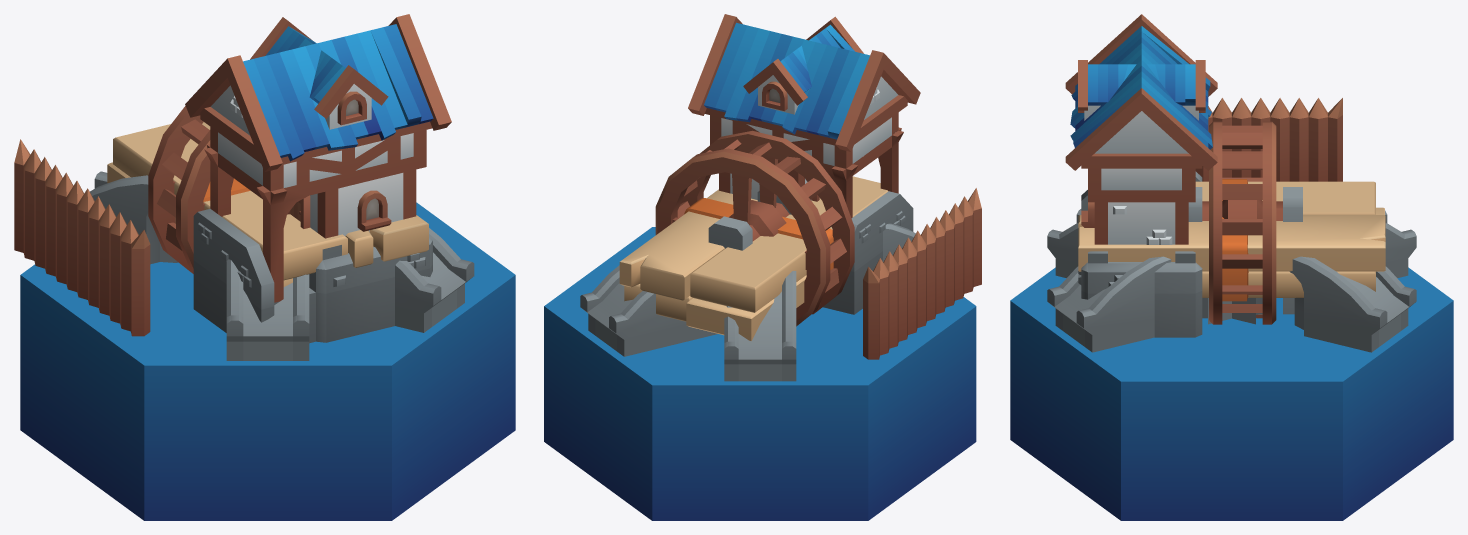
File: holding-watermill.glb
The picture shows the model from 3 angles, left to right: view 1: azimuth 30°, elevation 25°; view 2: azimuth 150°, elevation 25°; view 3: azimuth 270°, elevation 25°; orthographic projection. The views are drawn at different scales.
Visible parts, largest first — view 1: hex_water, building_watermill_blue, fence_wood_straight, Wood_Planks_Stack_Small, building_bridge_A, building_watermill_wheel_blue, building_bridge_B; view 2: hex_water, building_watermill_blue, Wood_Planks_Stack_Small, building_watermill_wheel_blue, fence_wood_straight, building_bridge_B, building_bridge_A; view 3: hex_water, building_watermill_blue, Wood_Planks_Stack_Small, building_watermill_wheel_blue, building_bridge_B, building_bridge_A, fence_wood_straight.
Part boxes in pixels (<box>): hex_water: <box>20,202,515,520</box>; building_watermill_blue: <box>185,14,451,343</box>; fence_wood_straight: <box>14,139,150,336</box>; Wood_Planks_Stack_Small: <box>107,122,428,286</box>; building_bridge_A: <box>90,171,474,332</box>; building_watermill_wheel_blue: <box>148,106,210,273</box>; building_bridge_B: <box>226,259,309,360</box>; hex_water: <box>544,227,976,520</box>; building_watermill_blue: <box>688,14,920,314</box>; Wood_Planks_Stack_Small: <box>619,176,888,340</box>; building_watermill_wheel_blue: <box>655,130,854,326</box>; fence_wood_straight: <box>863,188,981,359</box>; building_bridge_B: <box>580,223,915,356</box>; building_bridge_A: <box>724,271,796,381</box>; hex_water: <box>1010,267,1453,520</box>; building_watermill_blue: <box>1065,14,1302,337</box>; Wood_Planks_Stack_Small: <box>1078,179,1385,301</box>; building_watermill_wheel_blue: <box>1202,121,1282,324</box>; building_bridge_B: <box>1047,209,1416,352</box>; building_bridge_A: <box>1047,210,1416,352</box>; fence_wood_straight: <box>1195,98,1342,181</box>.
Size of the model in its own units: 2.05 by 2.22 by 2.31.
Materials: 2 (2 with a texture image).
